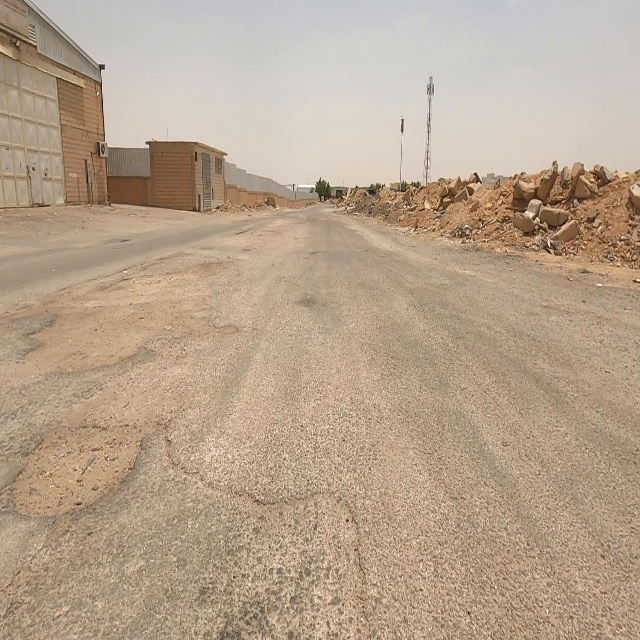pothole: (14, 424, 141, 516), (19, 313, 160, 378)
